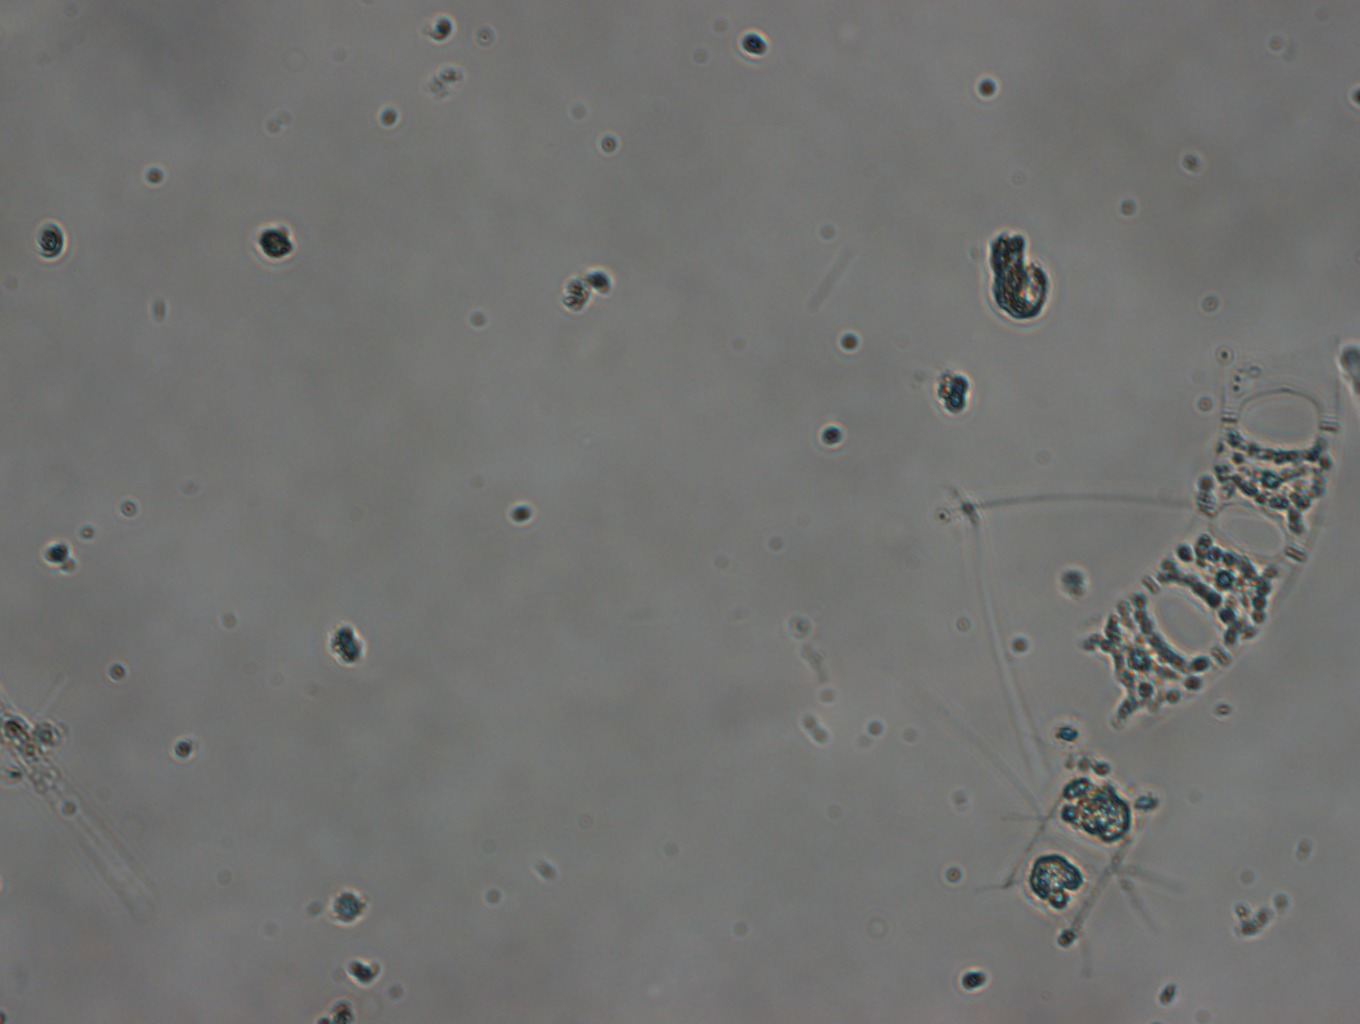chaetoceros: (968, 753, 1187, 964)
eucampia: (1089, 360, 1338, 720)
